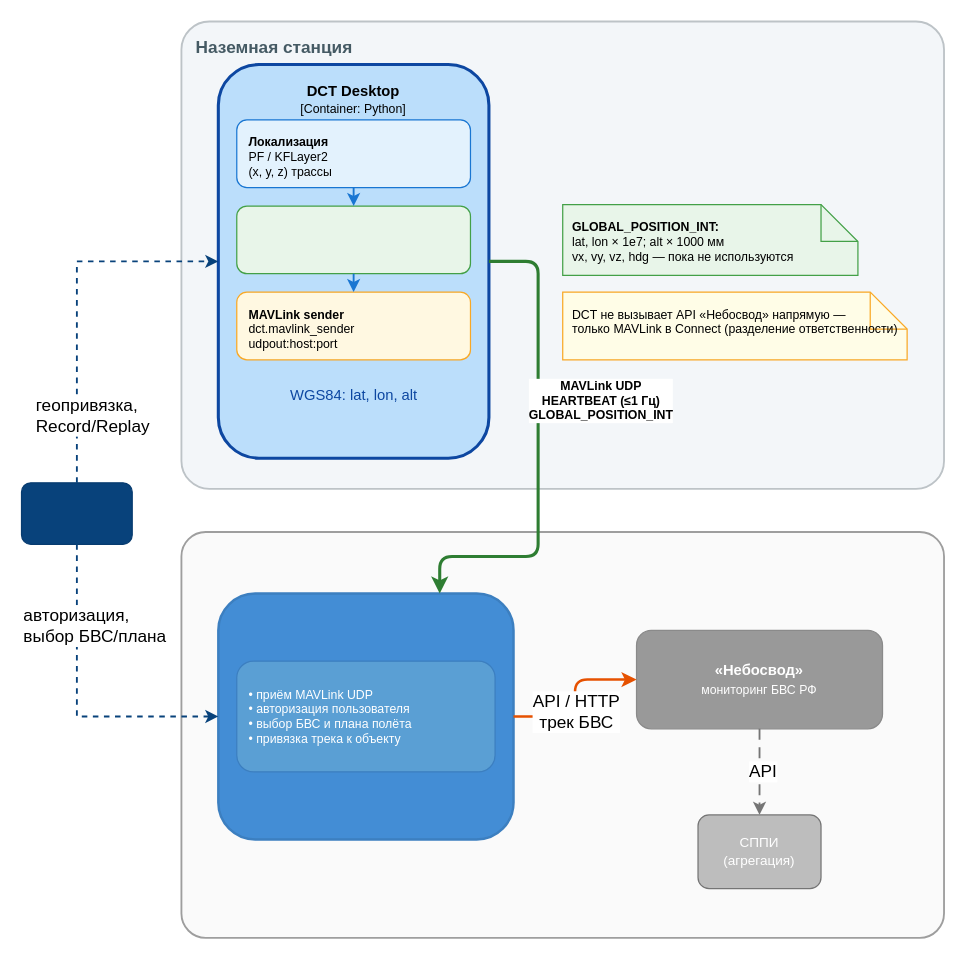
Image size: 967x961. Some labels were removed from this diagram. The shapes that lost their labels are listed below. From the top down, each one's box as (x1, y1, x2, y2) in pixels, then its label:
(236, 205, 470, 274): Геопривязка dct.mavlink_geo anchors + bounds
(20, 482, 132, 544): Оператор [Person]
(216, 592, 514, 840): Nebosvod Connect [Desktop, WPF]
(180, 530, 944, 938): Внешние системы мониторинга
